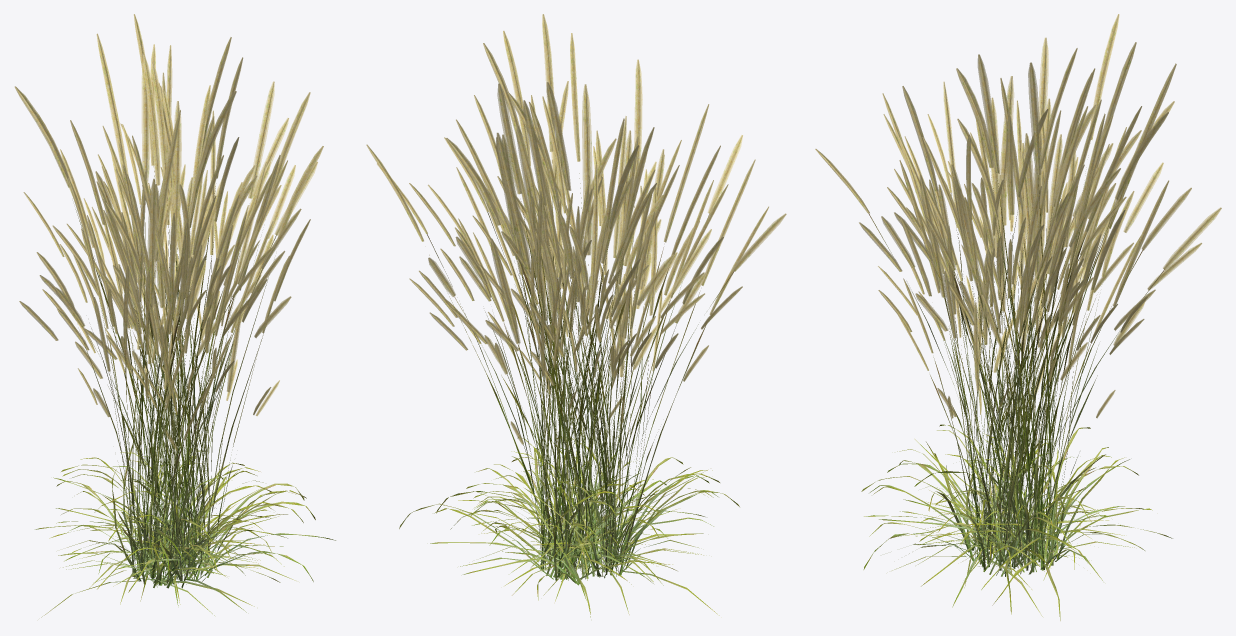
Rendered from plant.FBX.
3 views of the same model, side by side, from view 1: azimuth 30°, elevation 25°; view 2: azimuth 150°, elevation 25°; view 3: azimuth 270°, elevation 25° (orthographic). The views are drawn at different scales.
Parts seen in each view (by area): view 1: Calamagrostis_06; view 2: Calamagrostis_06; view 3: Calamagrostis_06.
Boxes of the visible parts, x1,y1,x2,y2 form: Calamagrostis_06: [14, 14, 335, 617]; Calamagrostis_06: [366, 14, 786, 617]; Calamagrostis_06: [815, 14, 1221, 620].
Bounding box in the file's own units: 93.63 × 150 × 100.
